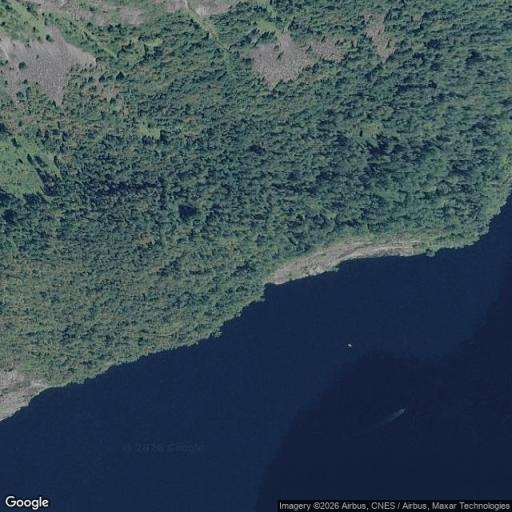ship: (380, 405, 413, 426)
